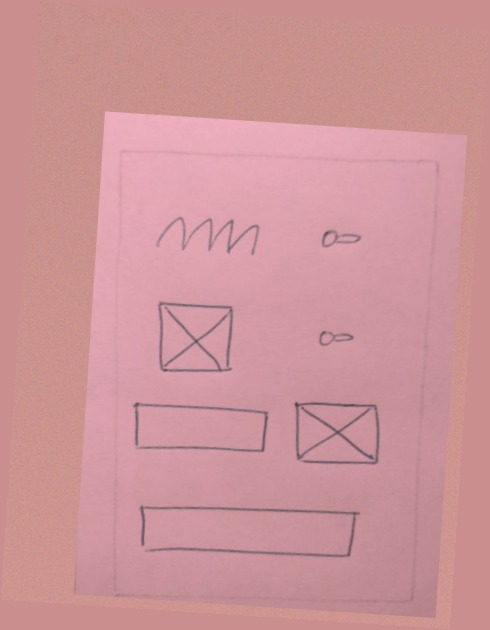image: (283, 392, 397, 473), (149, 292, 243, 381)
switch: (307, 217, 371, 257), (308, 317, 367, 360)
text: (143, 207, 268, 261)
text_input: (128, 493, 368, 573), (126, 396, 274, 464)
